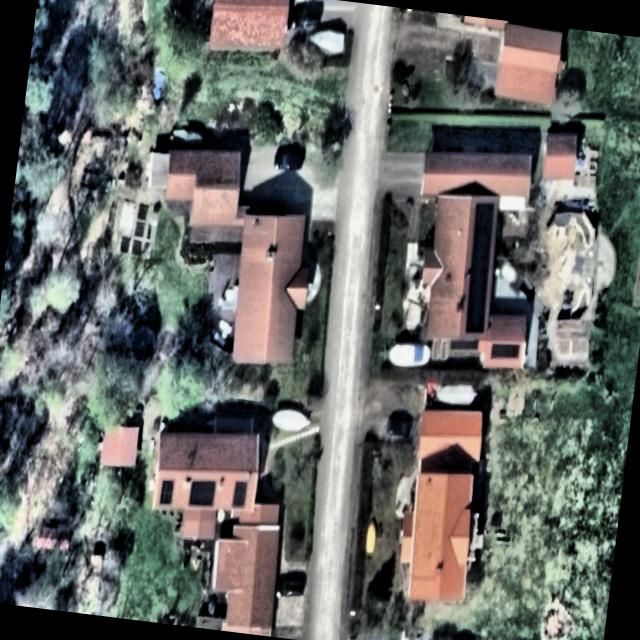roof_pv: (458, 197, 500, 338), (488, 338, 526, 366), (188, 478, 218, 510), (158, 472, 176, 507), (230, 480, 248, 511)
